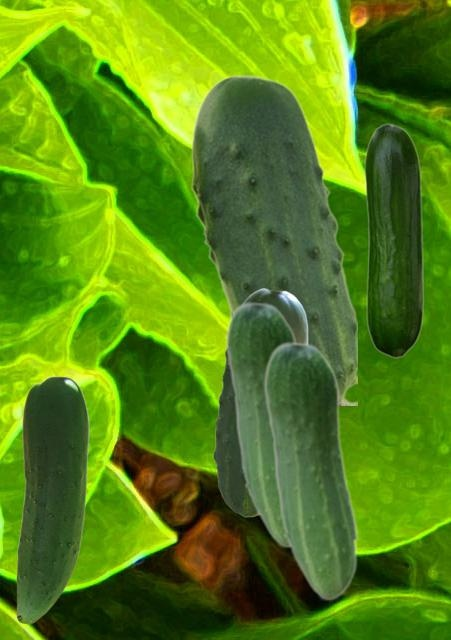cucumber: (191, 74, 356, 404), (263, 340, 358, 600), (213, 288, 307, 516), (16, 376, 88, 623), (225, 300, 297, 547), (364, 123, 423, 357)
